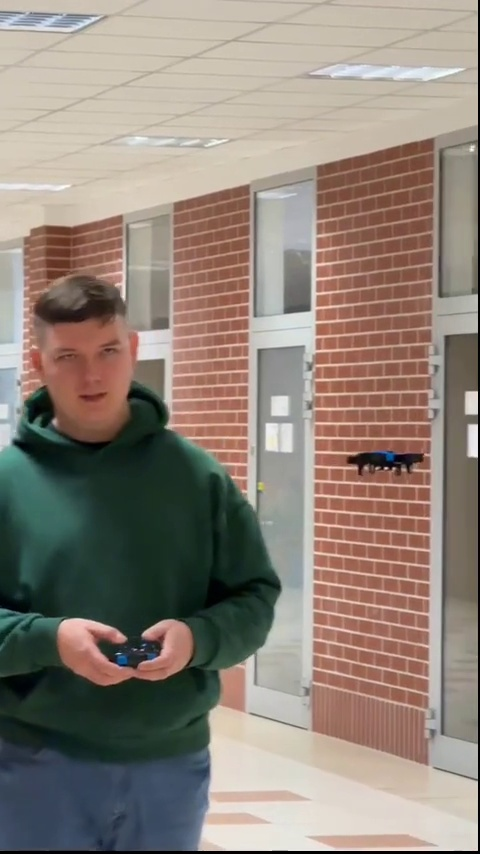drone: (345, 450, 430, 480)
no vest: (3, 274, 286, 832)
